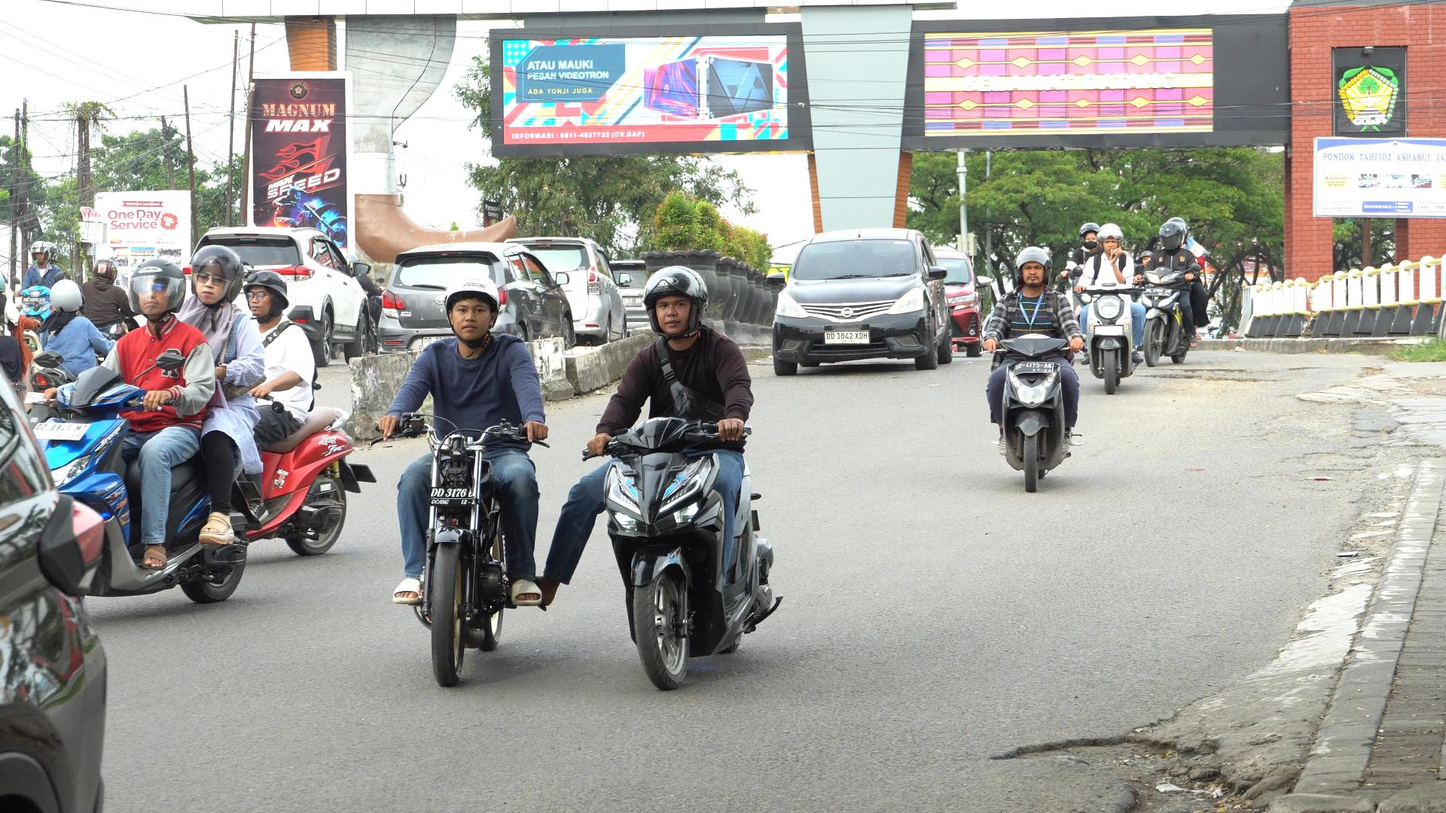number-plate: (434, 483, 483, 509), (1013, 362, 1054, 374)
